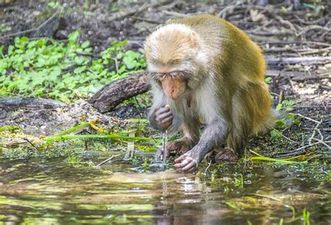monkey: (114, 16, 316, 176)
